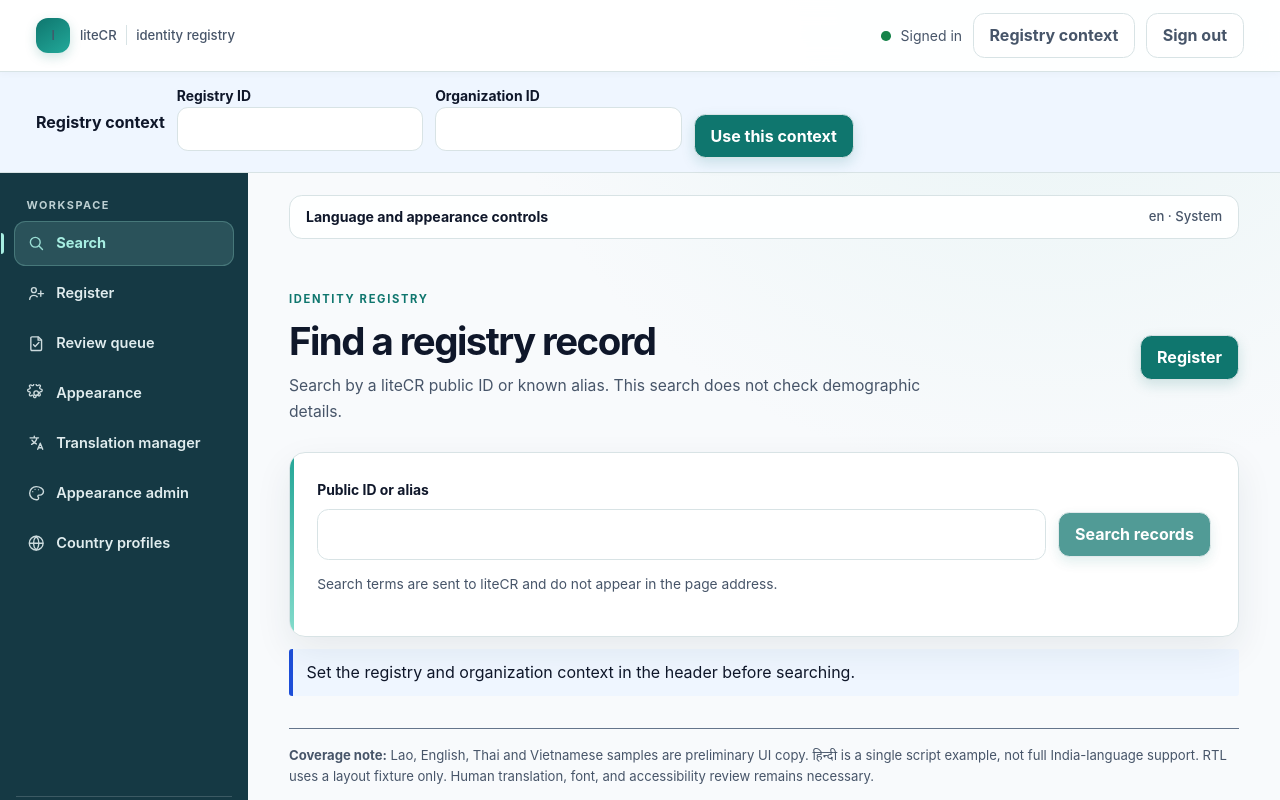
App sign-out confirmation › keeps the workspace and explains that sign-out is unconfirmed if session recheck also fails
Click the button with class "button-subtle" showing "Sign out" at (1195, 36), box [1146,13,1244,58]
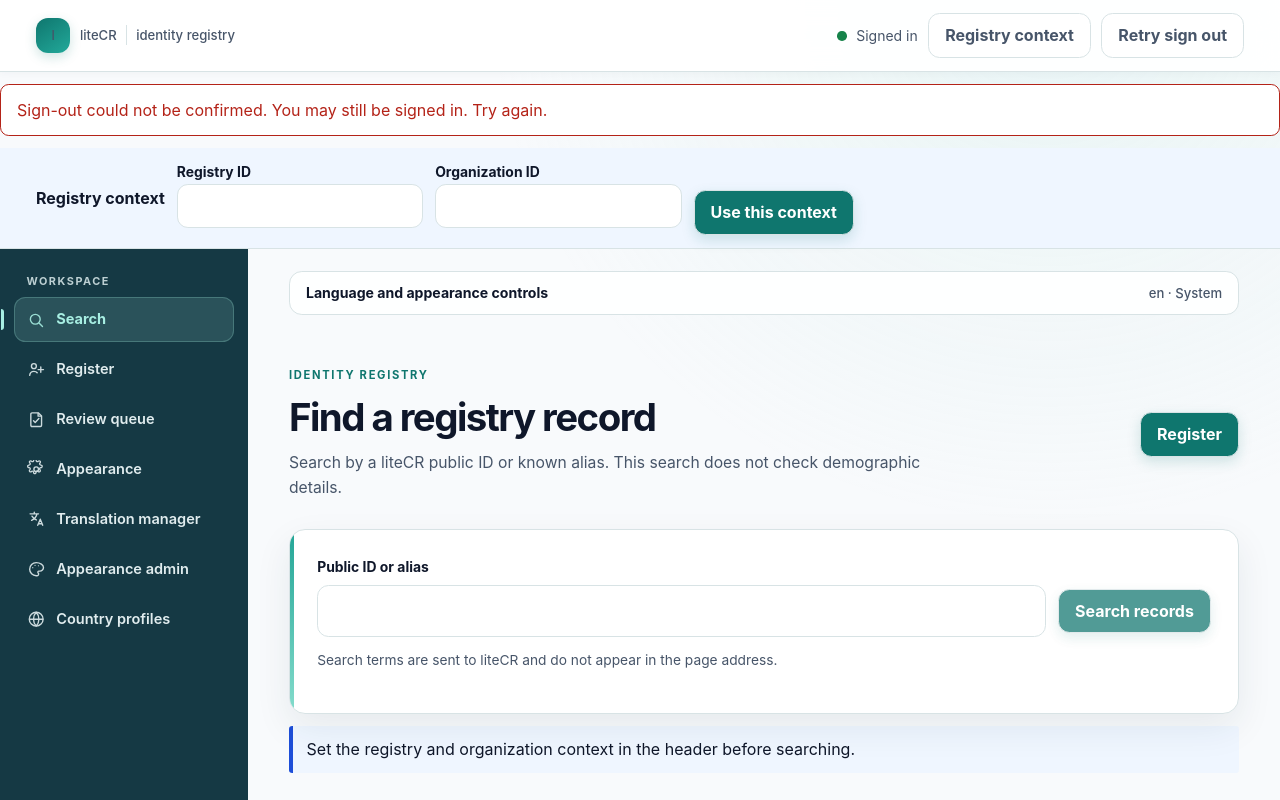
expect the element with class "session-status" reads "Signed in": met, box [856,27,918,44]
expect the message "Sign-out could not be confirmed. You may still be signed in. Try again." is shown: met, box [0,84,1279,136]
